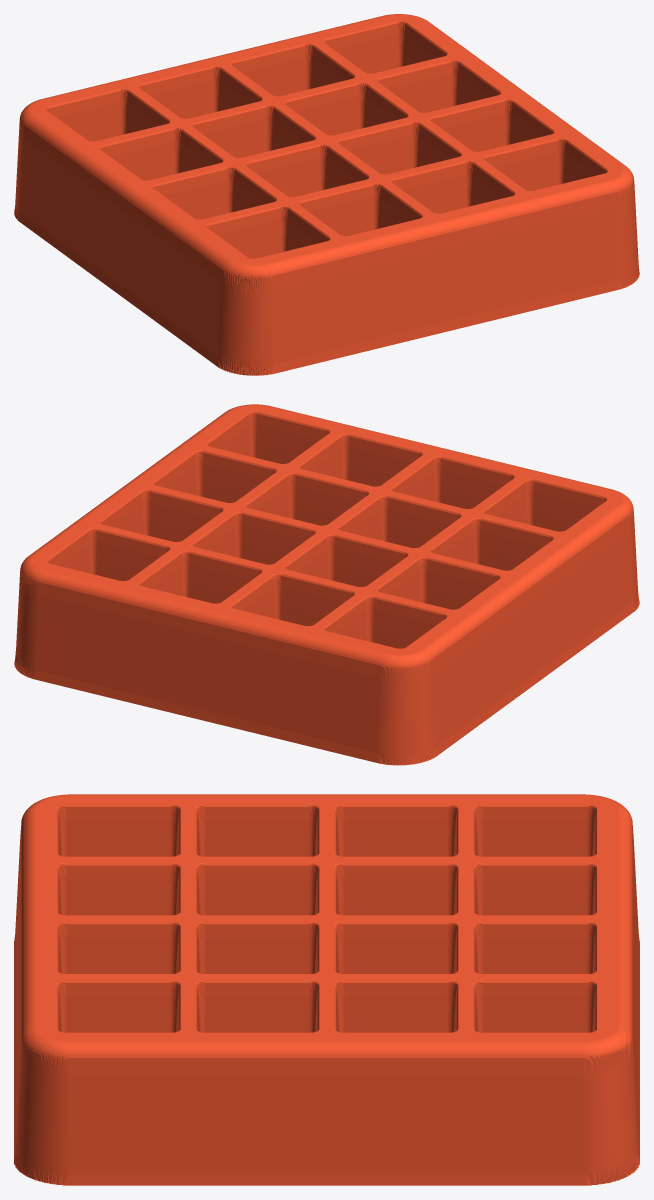
File: mold.glb
3 views of the same model, one above another, from view 1: azimuth 30°, elevation 25°; view 2: azimuth 150°, elevation 25°; view 3: azimuth 270°, elevation 25° (orthographic). The views are drawn at different scales.
Parts seen in each view (by area): view 1: geometry_0; view 2: geometry_0; view 3: geometry_0.
Part boxes in pixels (x1=…): geometry_0: x1=14, y1=14, x2=639, y2=375; geometry_0: x1=14, y1=404, x2=639, y2=765; geometry_0: x1=14, y1=794, x2=639, y2=1185.
Bounding box in the file's own units: 0.0992 × 0.0236 × 0.0992.
